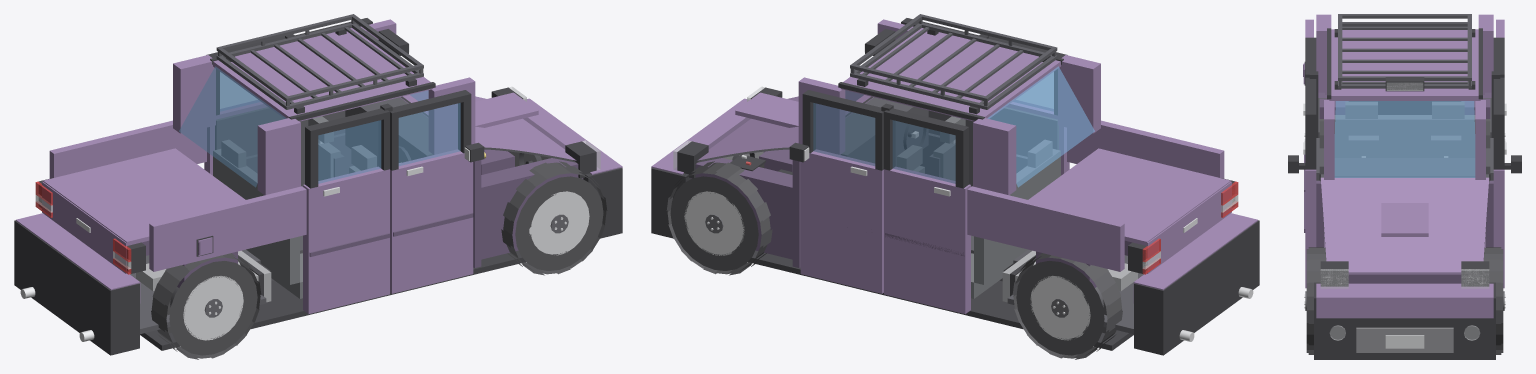
The model's file is car_modular.gltf.
3 views of the same model, side by side, from view 1: azimuth 30°, elevation 25°; view 2: azimuth 150°, elevation 25°; view 3: azimuth 270°, elevation 25° (orthographic). The views are drawn at different scales.
Visible parts, largest first — view 1: Chassis_Shell, Door_Rear_L, Door_Front_L, Trunk_Lid, Rear_Bumper, Wheel_RL, Wheel_FL, Roof_Rack, Hood, Door_Rear_R, Seat_Rear, Front_Bumper (+8 smaller); view 2: Chassis_Shell, Door_Rear_R, Door_Front_R, Trunk_Lid, Rear_Bumper, Wheel_RR, Wheel_FR, Roof_Rack, Hood, Door_Rear_L, Seat_Rear, Front_Bumper (+8 smaller); view 3: Chassis_Shell, Hood, Front_Bumper, Roof_Rack, Seat_Rear, Door_Front_L, Door_Front_R, Wheel_FL, Wheel_FR, Rear_Bumper, Headlight_L, Headlight_R (+4 smaller).
Part boxes in pixels (box(x1,y1,x2,y2)): Chassis_Shell: box(49, 19, 583, 350); Door_Rear_L: box(303, 108, 389, 314); Door_Front_L: box(390, 90, 484, 293); Trunk_Lid: box(42, 148, 245, 273); Rear_Bumper: box(14, 213, 140, 355); Wheel_RL: box(151, 253, 261, 359); Wheel_FL: box(501, 161, 607, 275); Roof_Rack: box(216, 14, 423, 114); Hood: box(401, 90, 576, 162); Door_Rear_R: box(204, 36, 285, 175); Seat_Rear: box(213, 139, 302, 298); Front_Bumper: box(525, 98, 622, 238); Chassis_Shell: box(690, 19, 1224, 350); Door_Rear_R: box(884, 108, 970, 314); Door_Front_R: box(789, 90, 883, 293); Trunk_Lid: box(1028, 148, 1231, 273); Rear_Bumper: box(1133, 213, 1259, 355); Wheel_RR: box(1012, 253, 1122, 359); Wheel_FR: box(666, 161, 772, 275); Roof_Rack: box(850, 14, 1057, 114); Hood: box(697, 90, 872, 162); Door_Rear_L: box(988, 36, 1069, 175); Seat_Rear: box(971, 139, 1060, 298); Front_Bumper: box(651, 98, 748, 238); Chassis_Shell: box(1303, 14, 1504, 283); Hood: box(1320, 177, 1489, 272); Front_Bumper: box(1314, 282, 1495, 359); Roof_Rack: box(1334, 14, 1475, 91); Seat_Rear: box(1334, 101, 1475, 157); Door_Front_L: box(1288, 77, 1319, 288); Door_Front_R: box(1490, 77, 1521, 288); Wheel_FL: box(1304, 247, 1326, 354); Wheel_FR: box(1483, 247, 1505, 354); Rear_Bumper: box(1349, 101, 1460, 114); Headlight_L: box(1320, 261, 1348, 288); Headlight_R: box(1461, 261, 1489, 288).
Size of the model in its own units: 5.36 by 2.22 by 2.16.
